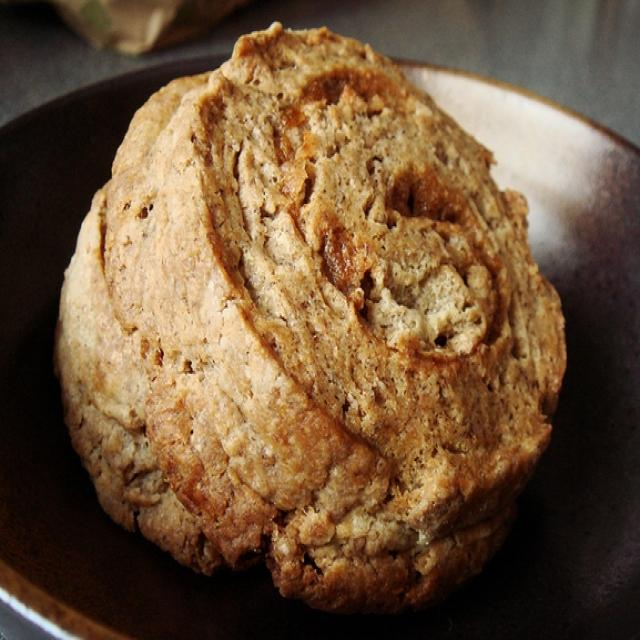面包点心: (25, 4, 608, 604)
